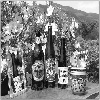beer: (32, 32, 46, 90)
